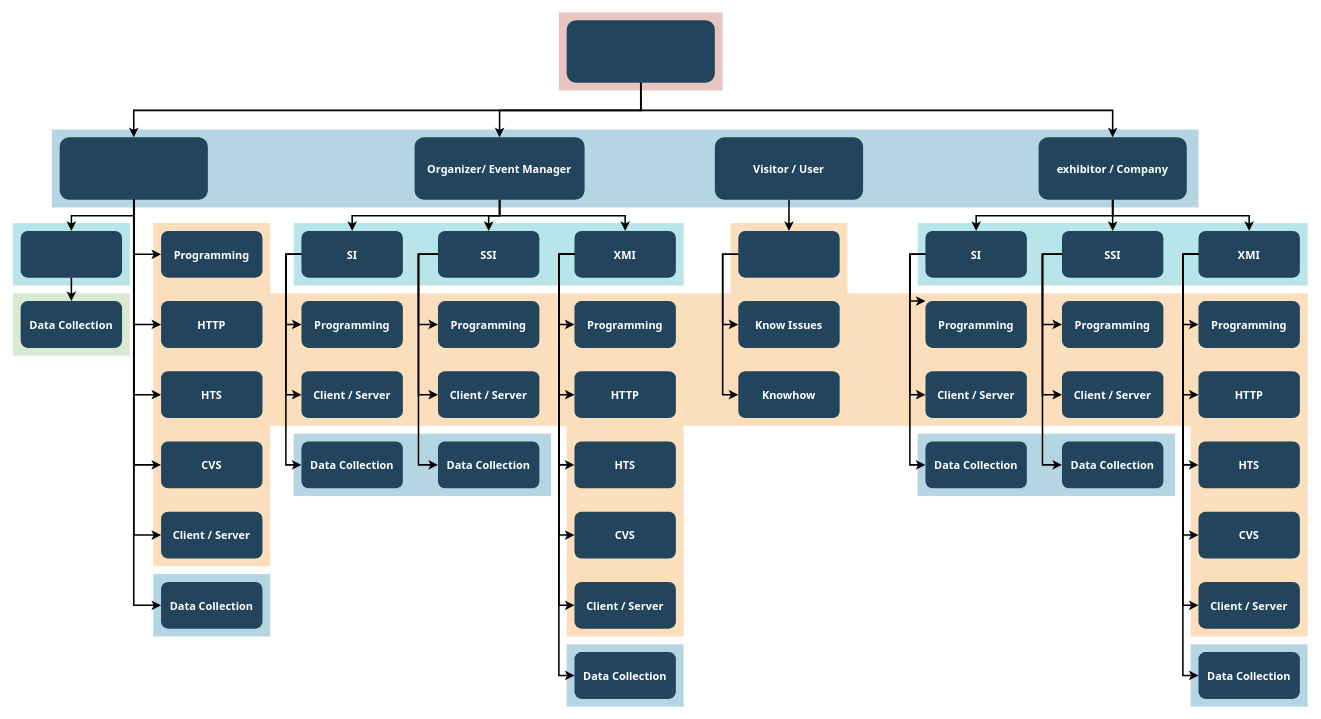
The diagram is 1321 pixels wide and 719 high, and some of its shapes have lost their labels. Here are the shapes that lost their labels. From the top down, the centre of each, then its label:
the point at 640,51: USERS
the point at 133,168: Super Admin
the point at 71,253: Regular Report
the point at 788,253: FAQ
